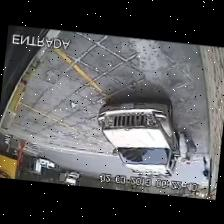person: (203, 156, 209, 178)
